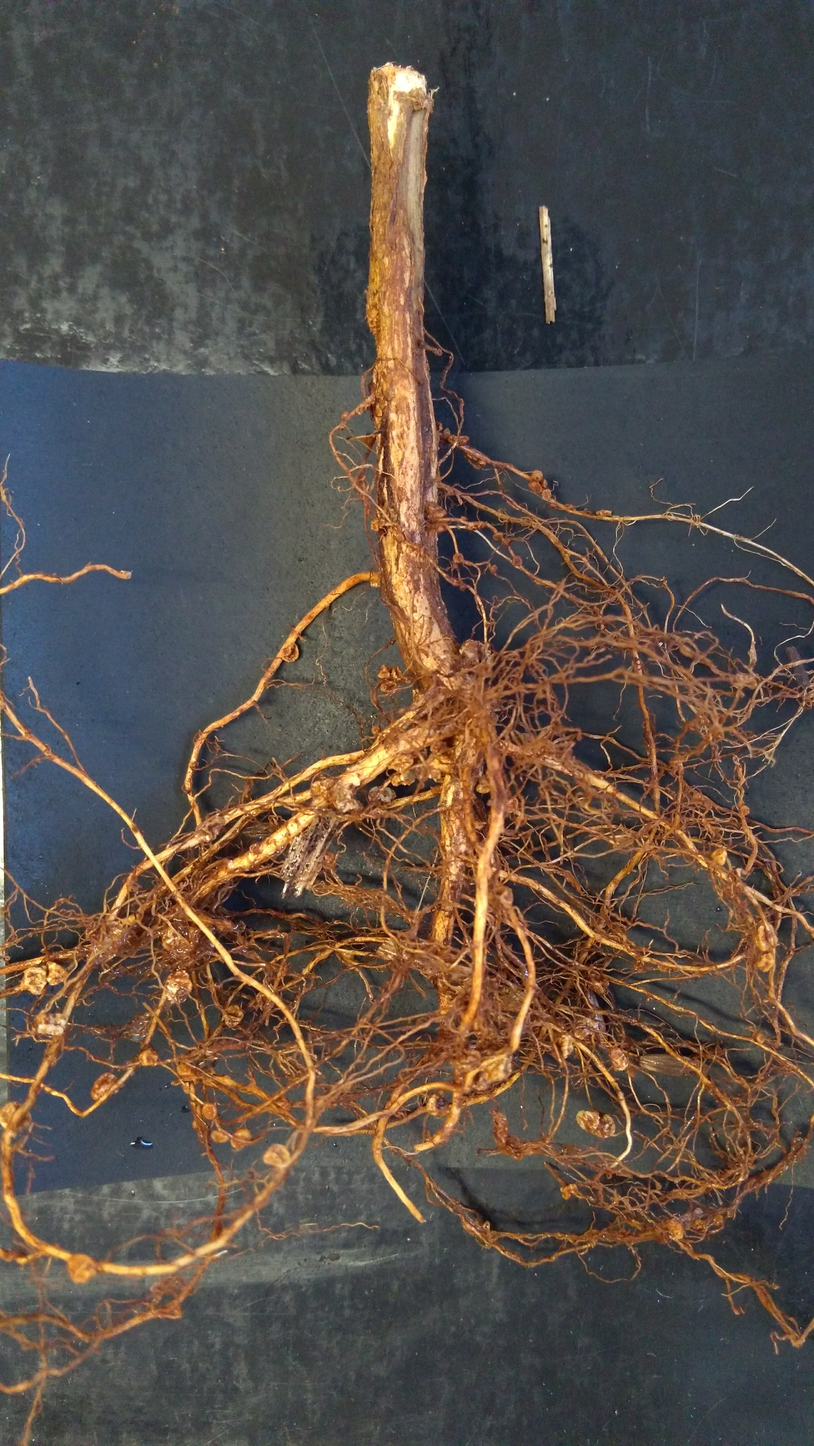nodule: (158, 924, 216, 963), (436, 657, 480, 699), (451, 1047, 493, 1091), (326, 771, 366, 814), (160, 968, 197, 1008), (63, 1252, 102, 1287), (28, 1010, 69, 1042), (0, 1098, 35, 1134), (88, 1070, 120, 1106), (306, 775, 335, 813), (18, 962, 48, 997), (423, 1087, 452, 1121), (191, 816, 226, 844), (487, 880, 517, 912), (458, 636, 488, 666), (260, 1140, 292, 1168), (484, 1052, 512, 1083), (218, 1001, 245, 1031), (124, 1013, 151, 1043), (229, 1124, 255, 1155), (253, 981, 277, 1013), (276, 639, 304, 666), (751, 920, 774, 952), (664, 1214, 687, 1246), (45, 959, 70, 988), (572, 1016, 600, 1041), (606, 1044, 630, 1073), (753, 949, 778, 976), (574, 1109, 601, 1134), (594, 1111, 616, 1141), (556, 1031, 576, 1063), (363, 786, 399, 803), (385, 751, 414, 771), (136, 1046, 161, 1069), (423, 499, 448, 521), (387, 772, 418, 789), (709, 844, 729, 867), (199, 1101, 219, 1122), (174, 1061, 195, 1080), (591, 977, 612, 996), (558, 1182, 579, 1201), (424, 765, 443, 784), (336, 946, 354, 965), (428, 737, 448, 754), (209, 1129, 230, 1145), (503, 795, 520, 814), (511, 812, 530, 829), (389, 665, 406, 682), (473, 781, 492, 796), (525, 479, 542, 495), (375, 663, 391, 680), (380, 678, 397, 694), (735, 803, 752, 818), (539, 488, 554, 503), (594, 508, 614, 519), (457, 433, 471, 448), (529, 469, 544, 483), (451, 552, 465, 566), (511, 553, 524, 568), (368, 517, 380, 533), (473, 819, 486, 832), (563, 503, 577, 514), (492, 530, 504, 542), (433, 420, 443, 432), (466, 523, 478, 533), (490, 563, 499, 576), (458, 514, 468, 524), (548, 501, 557, 511), (541, 478, 548, 489), (191, 1119, 198, 1130), (444, 427, 451, 436)
